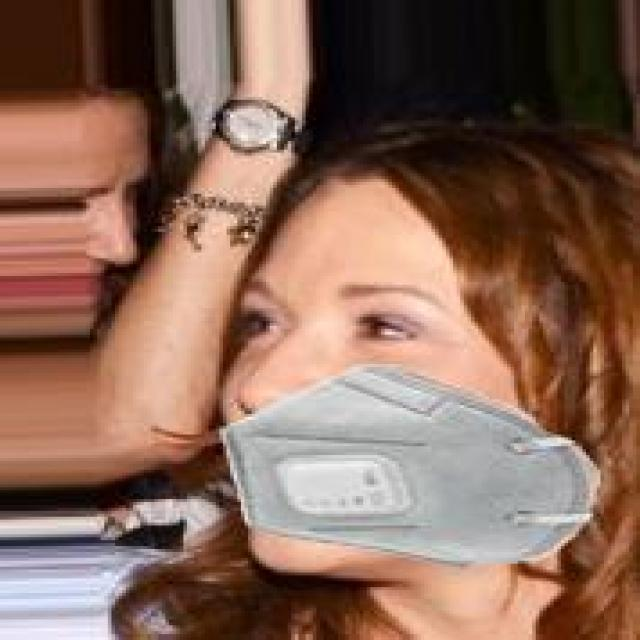mask: (241, 153, 615, 581)
